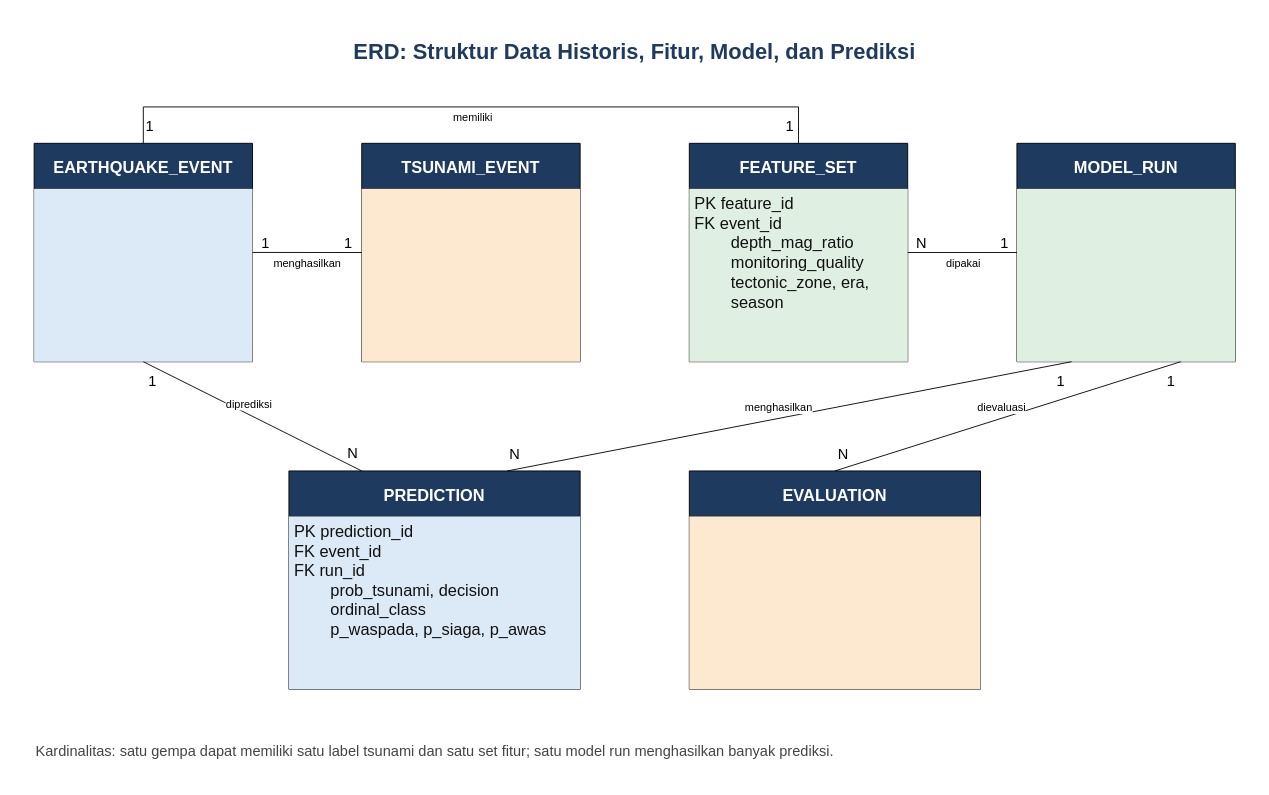
The diagram is 1269 pixels wide and 795 high, and some of its shapes have lost their labels. Each missing label, with the centre of its shape:
PK evaluation_id FK run_id split_type f1, recall, precision confusion_json: the point at 834,602
PK event_id time, year, month lat, lon, mag, depth nst, gap, dmin, rms: the point at 143,274
PK run_id model_name split_seed, threshold f1, auc, cost created_at: the point at 1125,274
PK tsunami_id FK event_id cause_code water_height, intensity country, location: the point at 470,274
